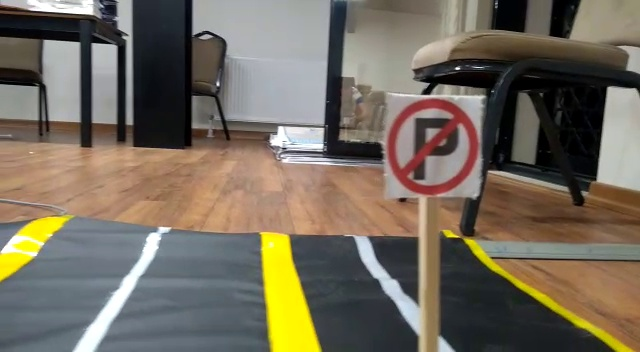park_yapilmaz: (384, 94, 481, 195)
